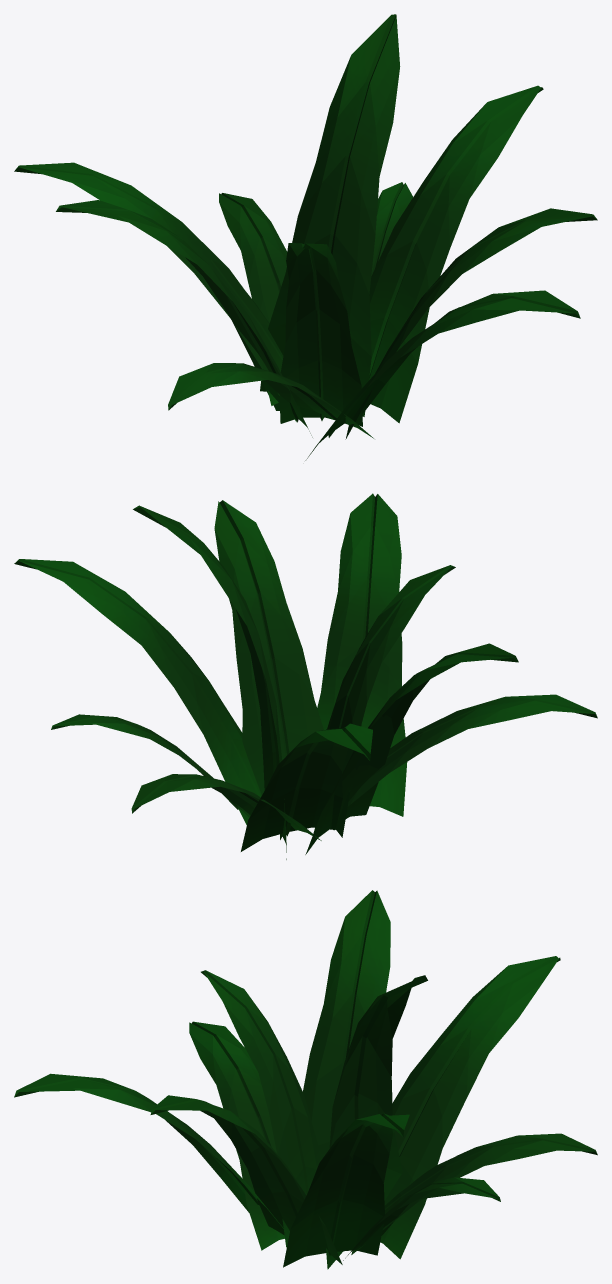
Rendered from tropical_grass_2.fbx.
3 views of the same model, one above another, from view 1: azimuth 30°, elevation 25°; view 2: azimuth 150°, elevation 25°; view 3: azimuth 270°, elevation 25° (orthographic). The views are drawn at different scales.
Parts seen in each view (by area): view 1: tropical_grass_2; view 2: tropical_grass_2; view 3: tropical_grass_2.
Boxes of the visible parts, <box> form: tropical_grass_2: <box>14,14,597,460</box>; tropical_grass_2: <box>14,493,597,859</box>; tropical_grass_2: <box>14,890,597,1269</box>.
Bounding box in the file's own units: 233 × 153 × 245.
